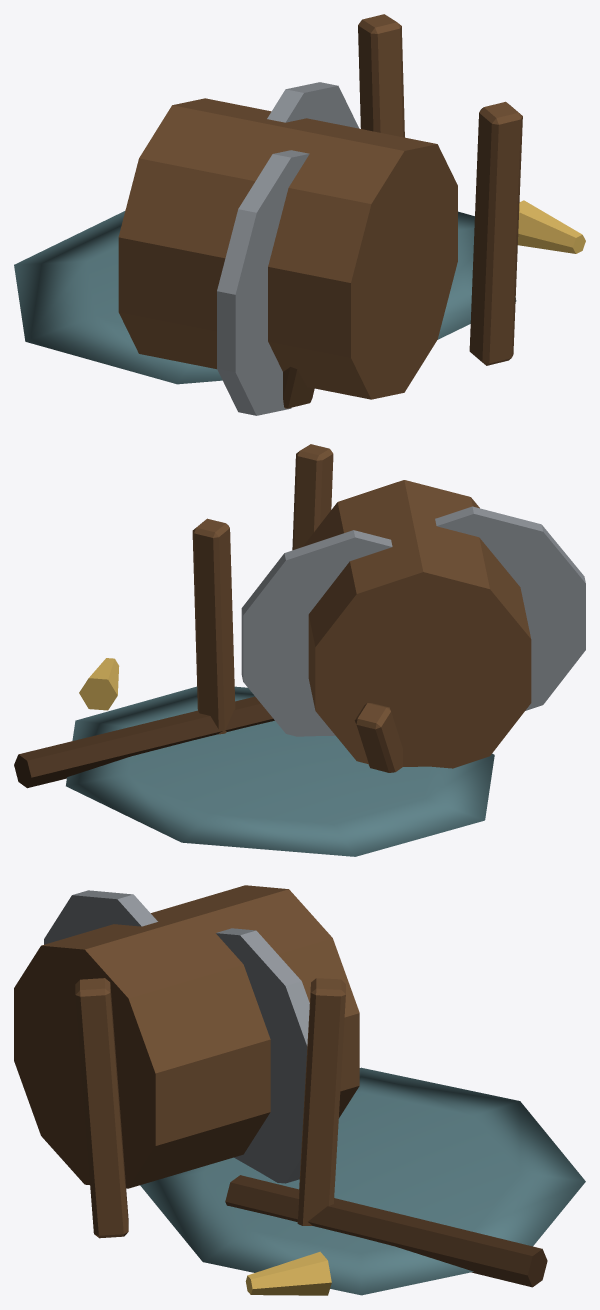
File: pressure_sluice_broken.fbx
3 views of the same model, one above another, from view 1: azimuth 30°, elevation 25°; view 2: azimuth 150°, elevation 25°; view 3: azimuth 270°, elevation 25° (orthographic). The views are drawn at different scales.
Visible parts, largest first — view 1: Prop; view 2: Prop; view 3: Prop.
Part boxes in pixels (box(x1,y1,x2,y2)): Prop: box(14, 14, 585, 415); Prop: box(14, 444, 585, 856); Prop: box(14, 885, 585, 1295).
Size of the model in its own units: 1.14 by 1.15 by 0.5681.
